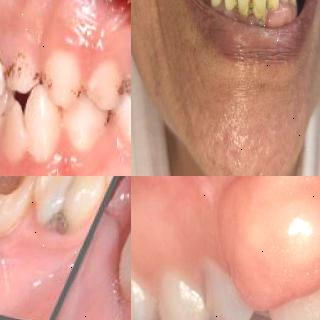Gum Swelling: (198, 176, 320, 296)
calculus: (244, 0, 260, 34), (263, 0, 273, 18), (232, 0, 242, 12)
maligned: (24, 80, 62, 164), (0, 94, 27, 162), (7, 48, 40, 94), (0, 87, 6, 132)
stains: (4, 58, 32, 82), (0, 42, 10, 92), (36, 68, 53, 90), (72, 82, 87, 99), (100, 107, 116, 122), (119, 79, 131, 95)
